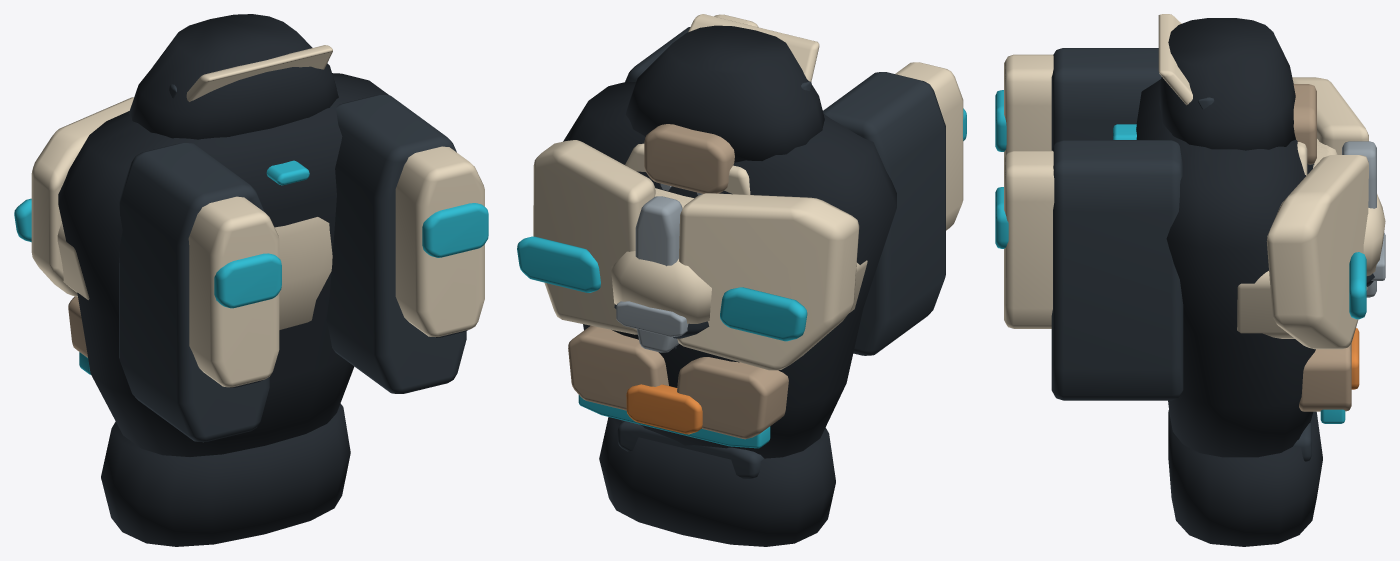
Rendered from BulwarkSuit.fbx.
3 renders of one model, left to right at view 1: azimuth 30°, elevation 25°; view 2: azimuth 150°, elevation 25°; view 3: azimuth 270°, elevation 25°, orthographic. The views are drawn at different scales.
Parts seen in each view (by area): view 1: Torso_Mount, Helmet_Mount, Pelvis_Mount; view 2: Torso_Mount, LeftBoot_Mount, LeftShin_Mount, RightThigh_Mount; view 3: Torso_Mount, Pelvis_Mount, LeftShin_Mount, LeftBoot_Mount.
Boxes of the visible parts, x1,y1,x2,y2 form: Torso_Mount: (14, 14, 488, 546); Helmet_Mount: (266, 160, 332, 329); Pelvis_Mount: (57, 222, 89, 299); Torso_Mount: (517, 14, 966, 546); LeftBoot_Mount: (611, 251, 711, 338); LeftShin_Mount: (644, 124, 734, 193); RightThigh_Mount: (697, 165, 750, 195); Torso_Mount: (995, 14, 1376, 546); Pelvis_Mount: (1237, 271, 1294, 338); LeftShin_Mount: (1293, 84, 1316, 164); LeftBoot_Mount: (1363, 194, 1385, 286).
Bounding box in the file's own units: 0.4655 × 0.637 × 0.494.
